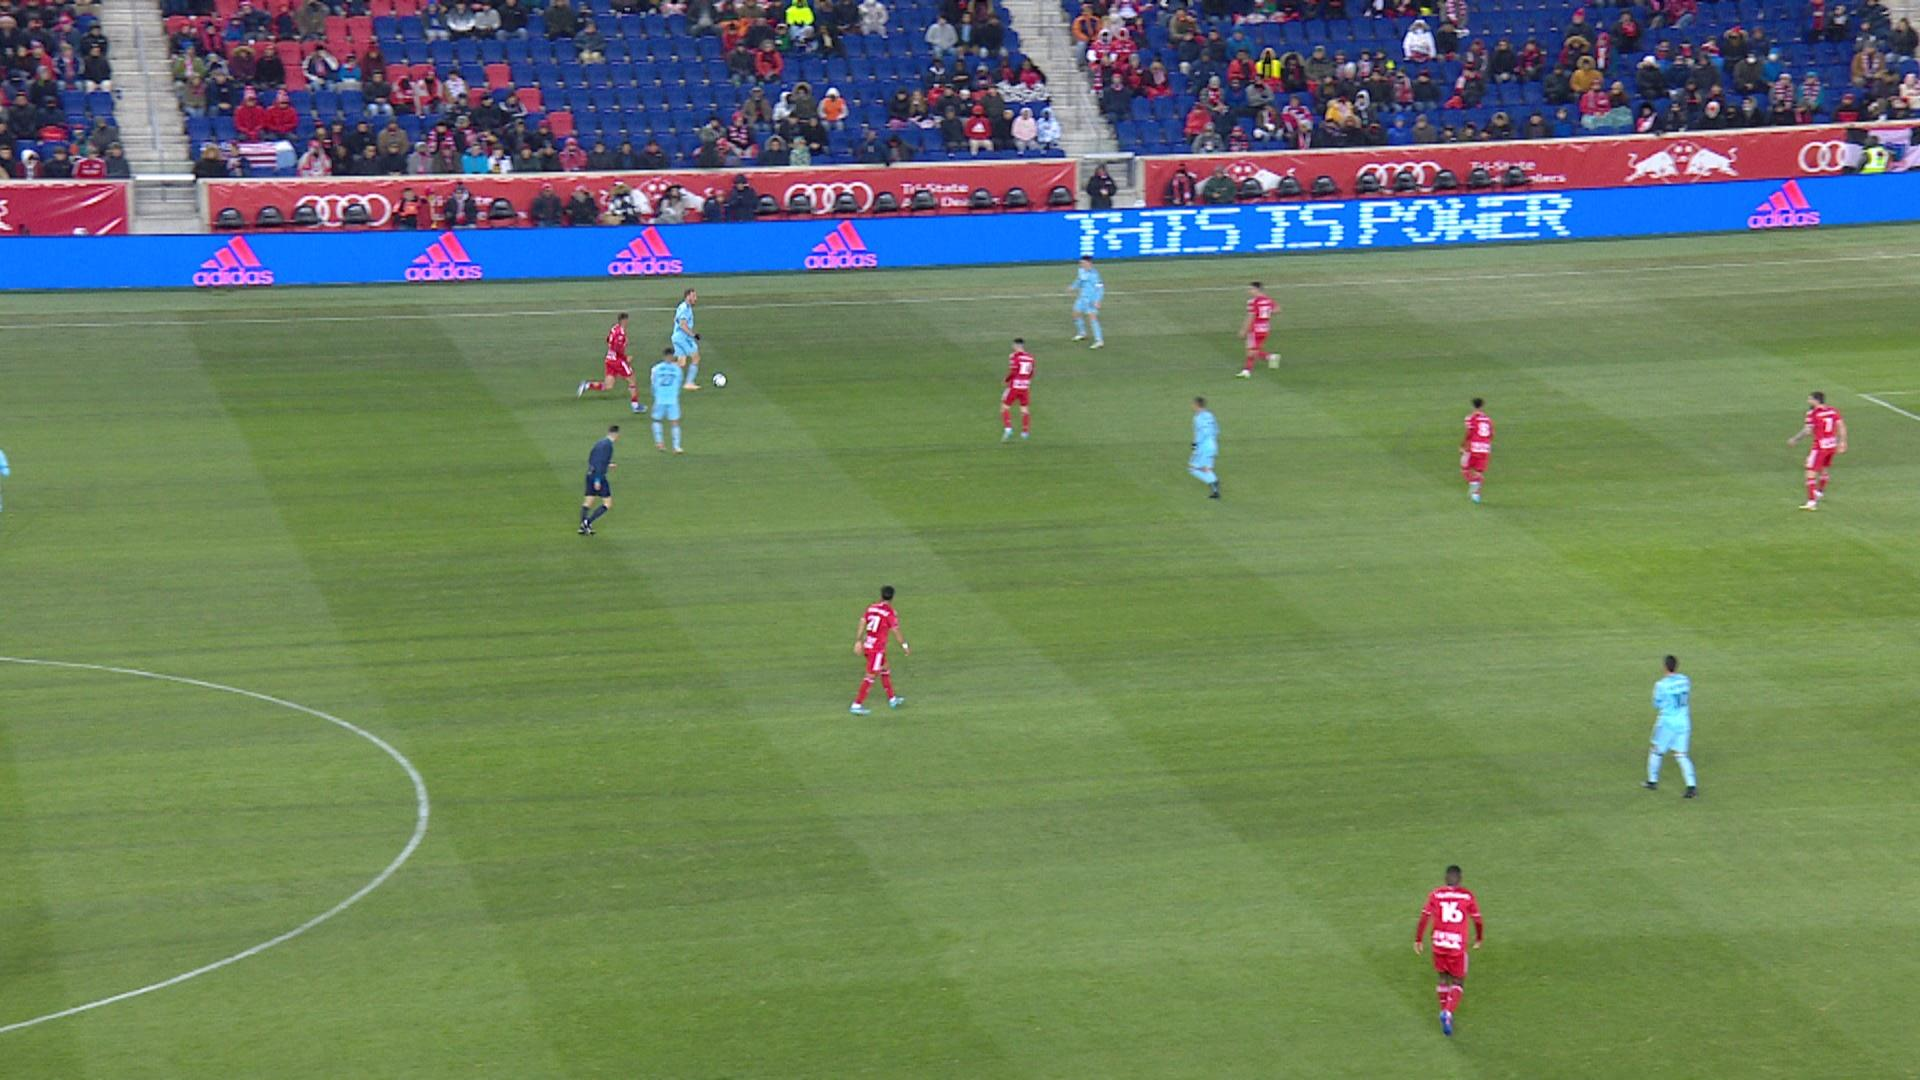football: (712, 372, 728, 389)
